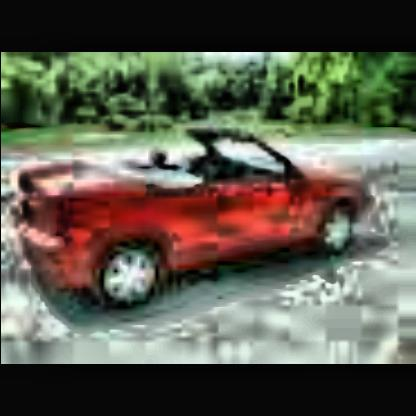Geo Metro Convertible 1993: (24, 117, 381, 302)
